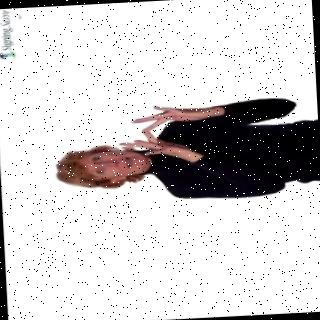Internet: (49, 94, 320, 206)
